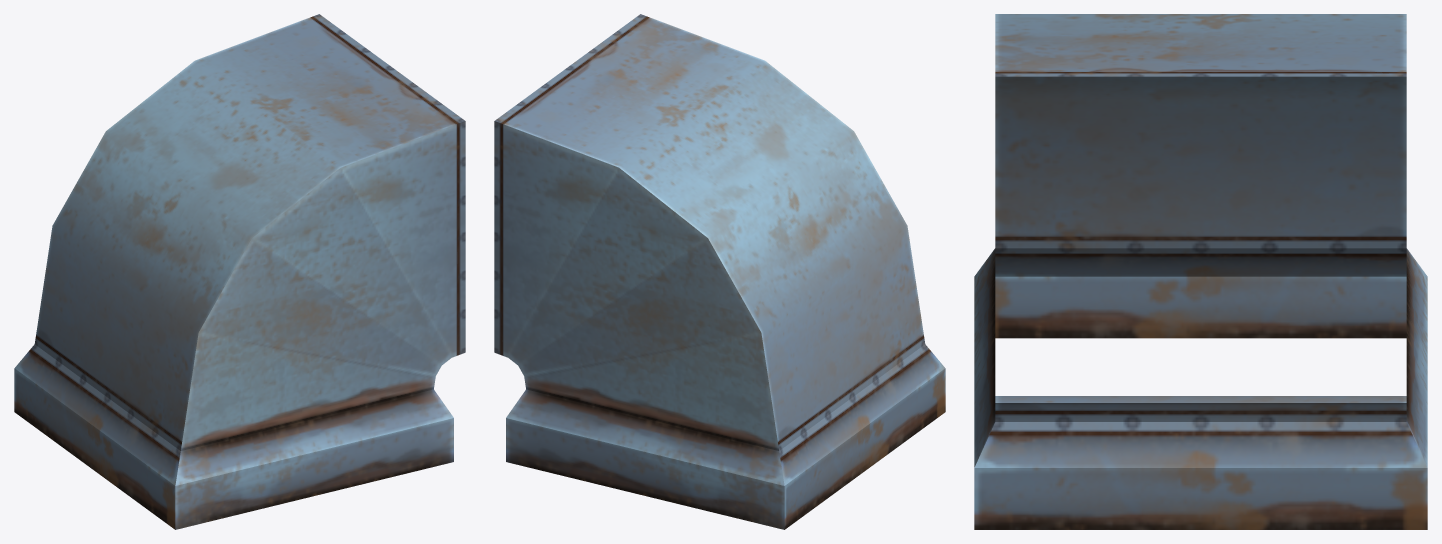
Rendered from airDuct01_elbow_V.fbx.
The picture shows the model from 3 angles, left to right: view 1: azimuth 30°, elevation 25°; view 2: azimuth 150°, elevation 25°; view 3: azimuth 270°, elevation 25°; orthographic projection. The views are drawn at different scales.
Visible parts, largest first — view 1: airDuct01_elbow_V; view 2: airDuct01_elbow_V; view 3: airDuct01_elbow_V.
Boxes of the visible parts, <box> form: airDuct01_elbow_V: <box>14,14,465,529</box>; airDuct01_elbow_V: <box>494,14,945,529</box>; airDuct01_elbow_V: <box>974,14,1427,529</box>.
Bounding box in the file's own units: 94.05 × 100 × 88.1.
